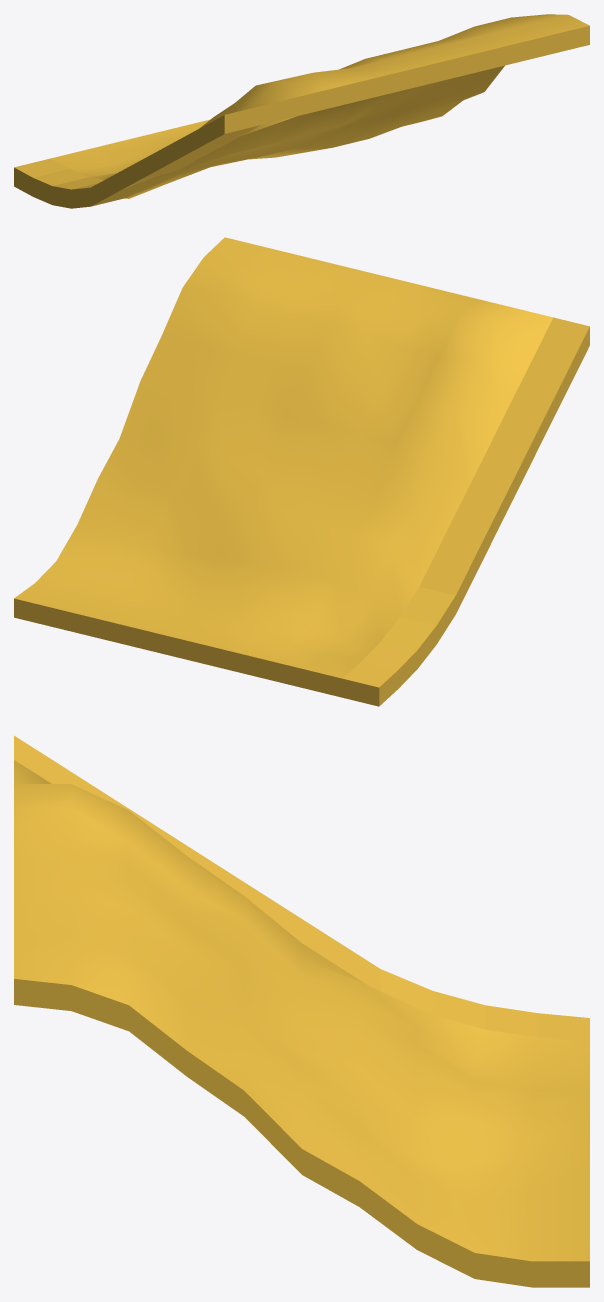
The model's file is Steil - Unten - Hügel a - x.fbx.
3 views of the same model, one above another, from view 1: azimuth 30°, elevation 25°; view 2: azimuth 150°, elevation 25°; view 3: azimuth 270°, elevation 25° (orthographic). The views are drawn at different scales.
Visible parts, largest first — view 1: Steil - Unten - Hügel a - x; view 2: Steil - Unten - Hügel a - x; view 3: Steil - Unten - Hügel a - x.
Boxes of the visible parts, bbox=[...] form: Steil - Unten - Hügel a - x: bbox=[14, 14, 589, 208]; Steil - Unten - Hügel a - x: bbox=[14, 237, 589, 706]; Steil - Unten - Hügel a - x: bbox=[14, 735, 589, 1287].
Size of the model in its own units: 394 by 233 by 394.
